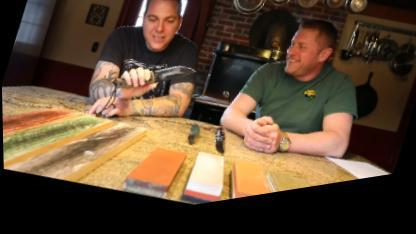knife: (122, 46, 202, 114)
